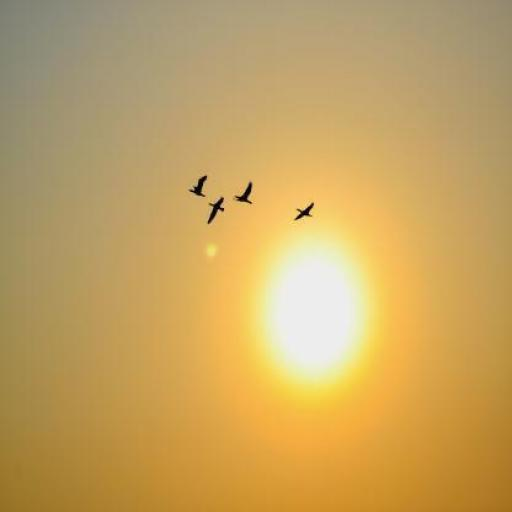bird: (207, 196, 225, 225), (188, 176, 208, 198), (234, 181, 253, 204), (293, 202, 314, 221)
